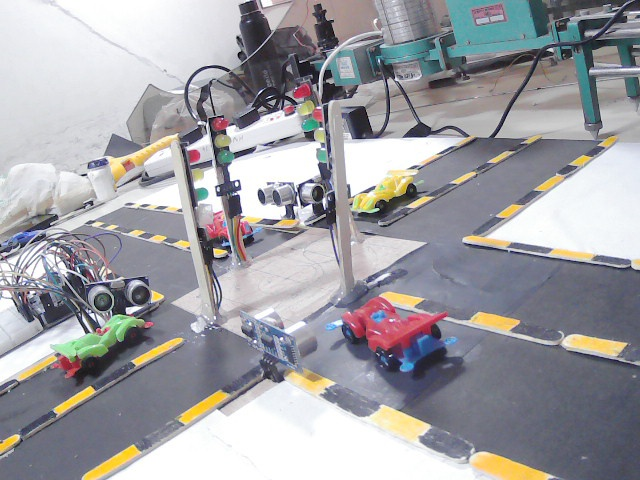black_strip: (418, 428, 475, 463), (136, 416, 184, 450), (324, 386, 382, 413), (92, 362, 137, 390), (223, 366, 268, 393), (421, 300, 473, 323), (20, 410, 63, 436), (512, 322, 562, 344), (382, 202, 422, 224), (472, 215, 504, 237), (516, 186, 546, 206), (550, 163, 580, 182), (511, 242, 551, 256), (617, 342, 640, 365), (588, 257, 629, 268), (471, 156, 494, 175), (432, 180, 462, 194), (130, 303, 156, 318), (590, 144, 615, 159), (508, 140, 531, 153), (1, 380, 20, 395), (0, 379, 17, 393), (435, 144, 454, 156), (163, 237, 179, 246), (117, 227, 133, 234), (140, 233, 152, 240), (137, 204, 148, 211), (99, 224, 114, 229), (123, 201, 133, 206), (156, 204, 166, 209), (173, 208, 185, 211), (84, 221, 95, 223)
car: (42, 306, 155, 378), (342, 293, 451, 366), (346, 168, 418, 222), (206, 210, 256, 243)
mixed_lane: (287, 369, 560, 480), (87, 365, 270, 477), (0, 335, 181, 445), (390, 289, 638, 358), (385, 128, 539, 223), (472, 143, 614, 235), (468, 233, 640, 272), (139, 183, 313, 221), (407, 130, 480, 180), (84, 218, 192, 250), (0, 347, 66, 391), (125, 286, 165, 318), (211, 244, 229, 258)
traffic_light: (188, 144, 211, 206), (293, 84, 316, 131), (312, 104, 328, 171), (218, 114, 233, 167)
uno_breadboard: (246, 312, 327, 372), (6, 275, 102, 312), (90, 287, 152, 311), (266, 182, 301, 207), (304, 184, 332, 205)
yellow_strip: (370, 403, 430, 442), (472, 455, 549, 480), (84, 444, 141, 477), (177, 389, 227, 422), (288, 367, 333, 397), (135, 339, 181, 366), (566, 337, 625, 358), (55, 384, 95, 414), (16, 354, 55, 380), (473, 313, 517, 332), (464, 235, 509, 248), (549, 248, 590, 262), (381, 292, 421, 306), (537, 174, 561, 191), (491, 149, 518, 164), (455, 132, 477, 148), (523, 132, 546, 146), (454, 170, 476, 184), (497, 204, 524, 215), (0, 436, 18, 452), (274, 219, 299, 229), (599, 134, 615, 148), (572, 153, 589, 166), (411, 196, 429, 208), (149, 288, 162, 300), (149, 234, 168, 242), (129, 229, 142, 240), (630, 257, 640, 270), (106, 222, 119, 230), (214, 249, 228, 256), (165, 206, 178, 213), (176, 241, 191, 247), (95, 221, 105, 229), (147, 204, 155, 209), (132, 203, 139, 208)
